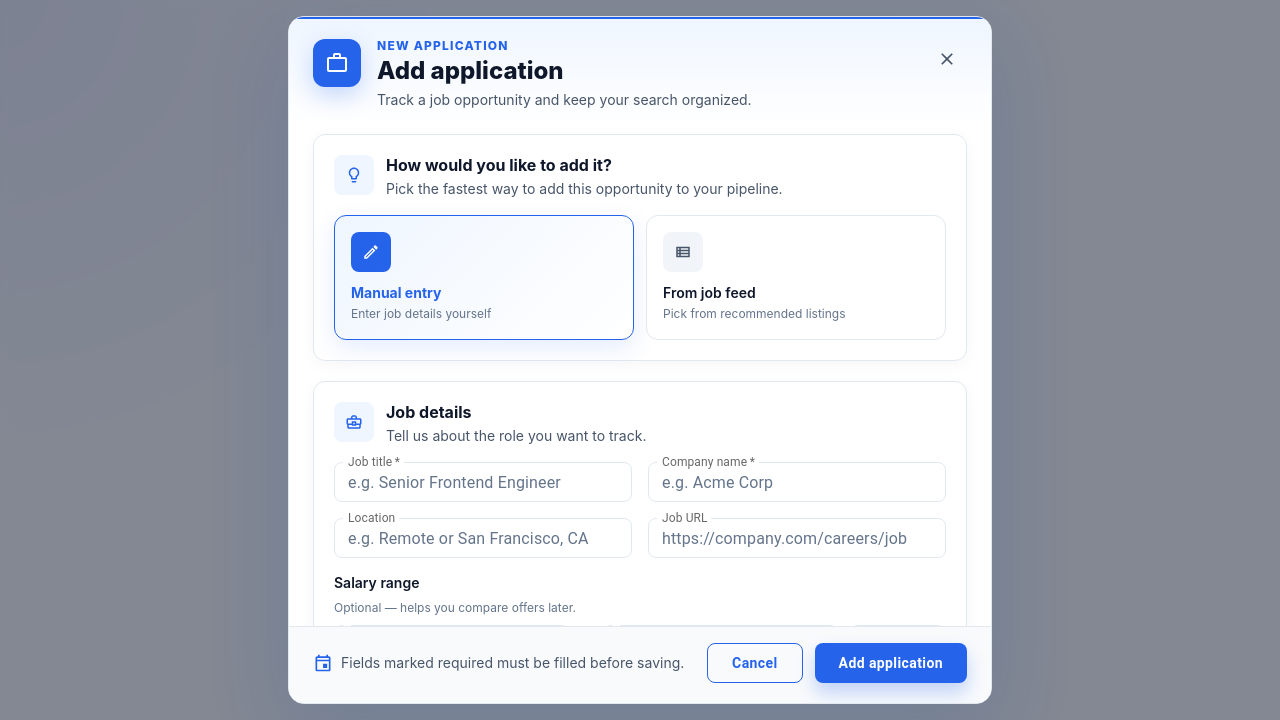
Test: AddApplicationDialog › shows validation errors when submitting an empty manual form
Click the button "Add application" at coordinates (891, 663), box [815, 643, 967, 683]
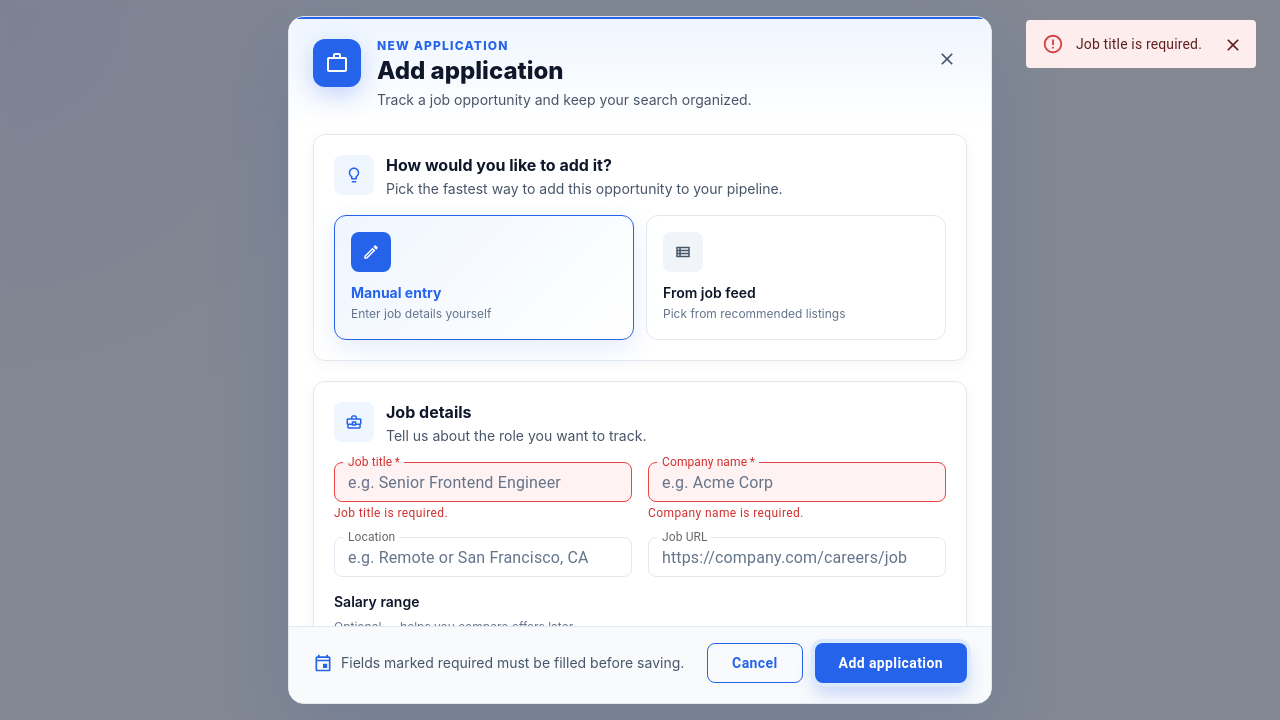
Expected: the text "Job title is required" is shown, [1076, 36, 1202, 52]
Expected: the text "Company name is required" is shown, [648, 506, 804, 520]
